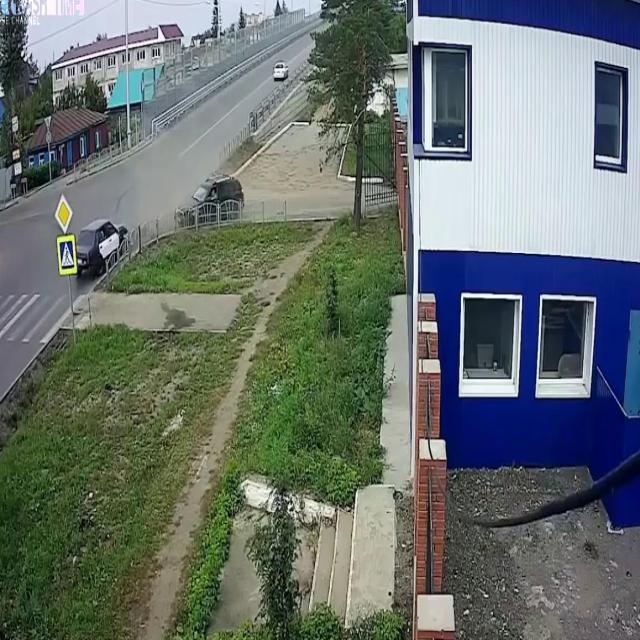accident: (65, 162, 251, 298)
